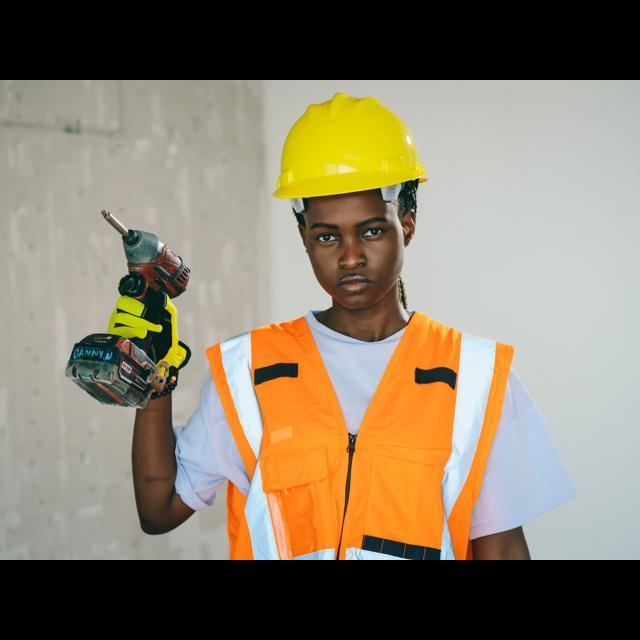helmet: (262, 90, 438, 206)
safety_vest: (200, 318, 507, 558)
